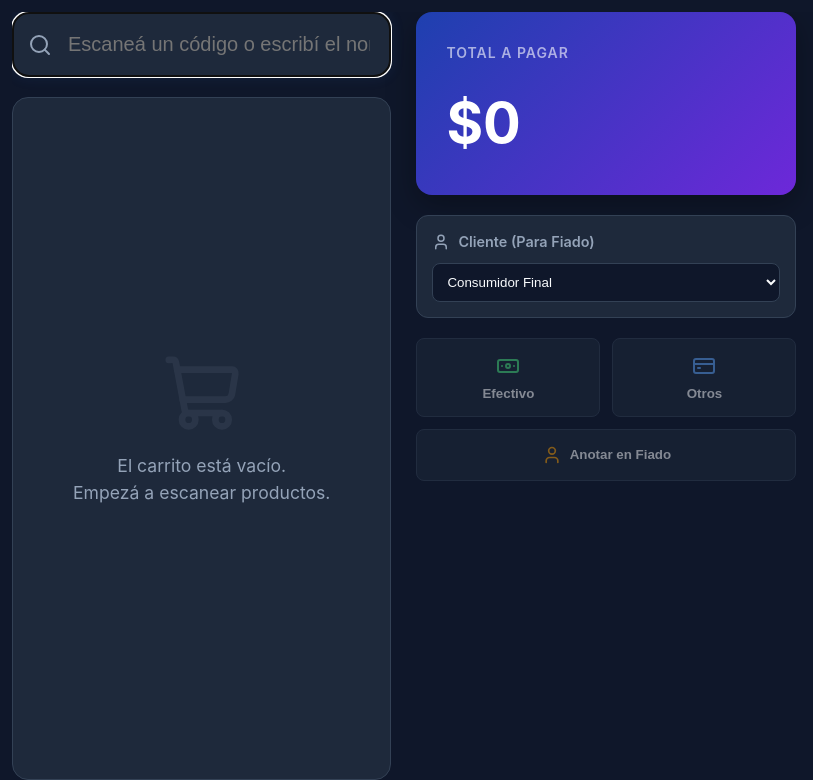
it: Ventas – debounce search on input change › pressing Escape clears dropdown results
Type "Alf" into the field with placeholder "Escaneá un código o escribí el nombre... (Enter)" at (202, 44), box [12,12,391,77]
Wait 350 ms
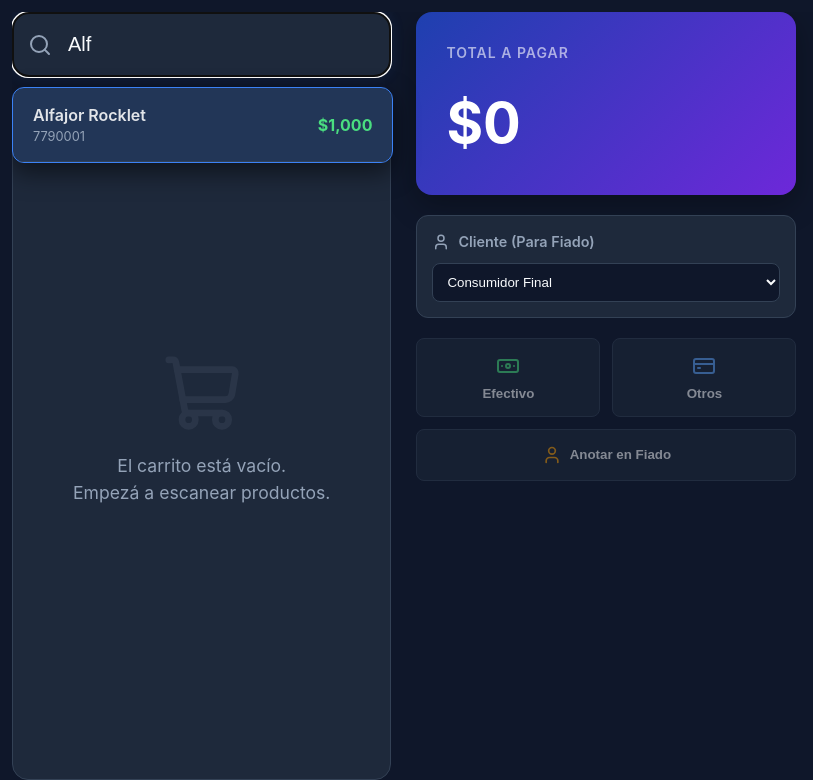
Expected: the text "Alfajor Rocklet" is shown, [33,103,146,127]
Press Escape in the field with placeholder "Escaneá un código o escribí el nombre... (Enter)", box [12,12,391,77]
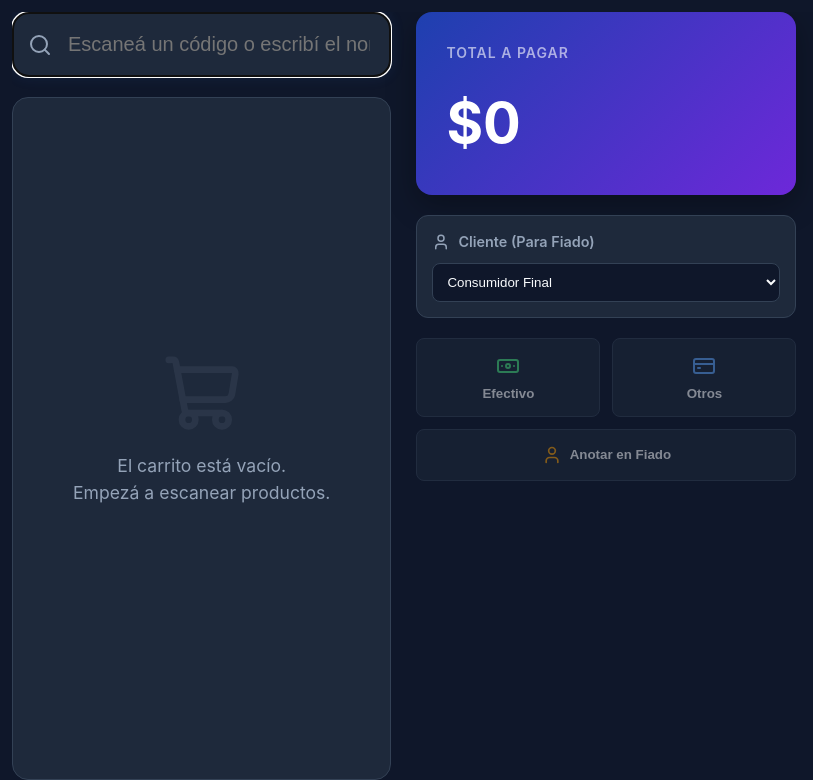
Expected: the text "Alfajor Rocklet" is gone
